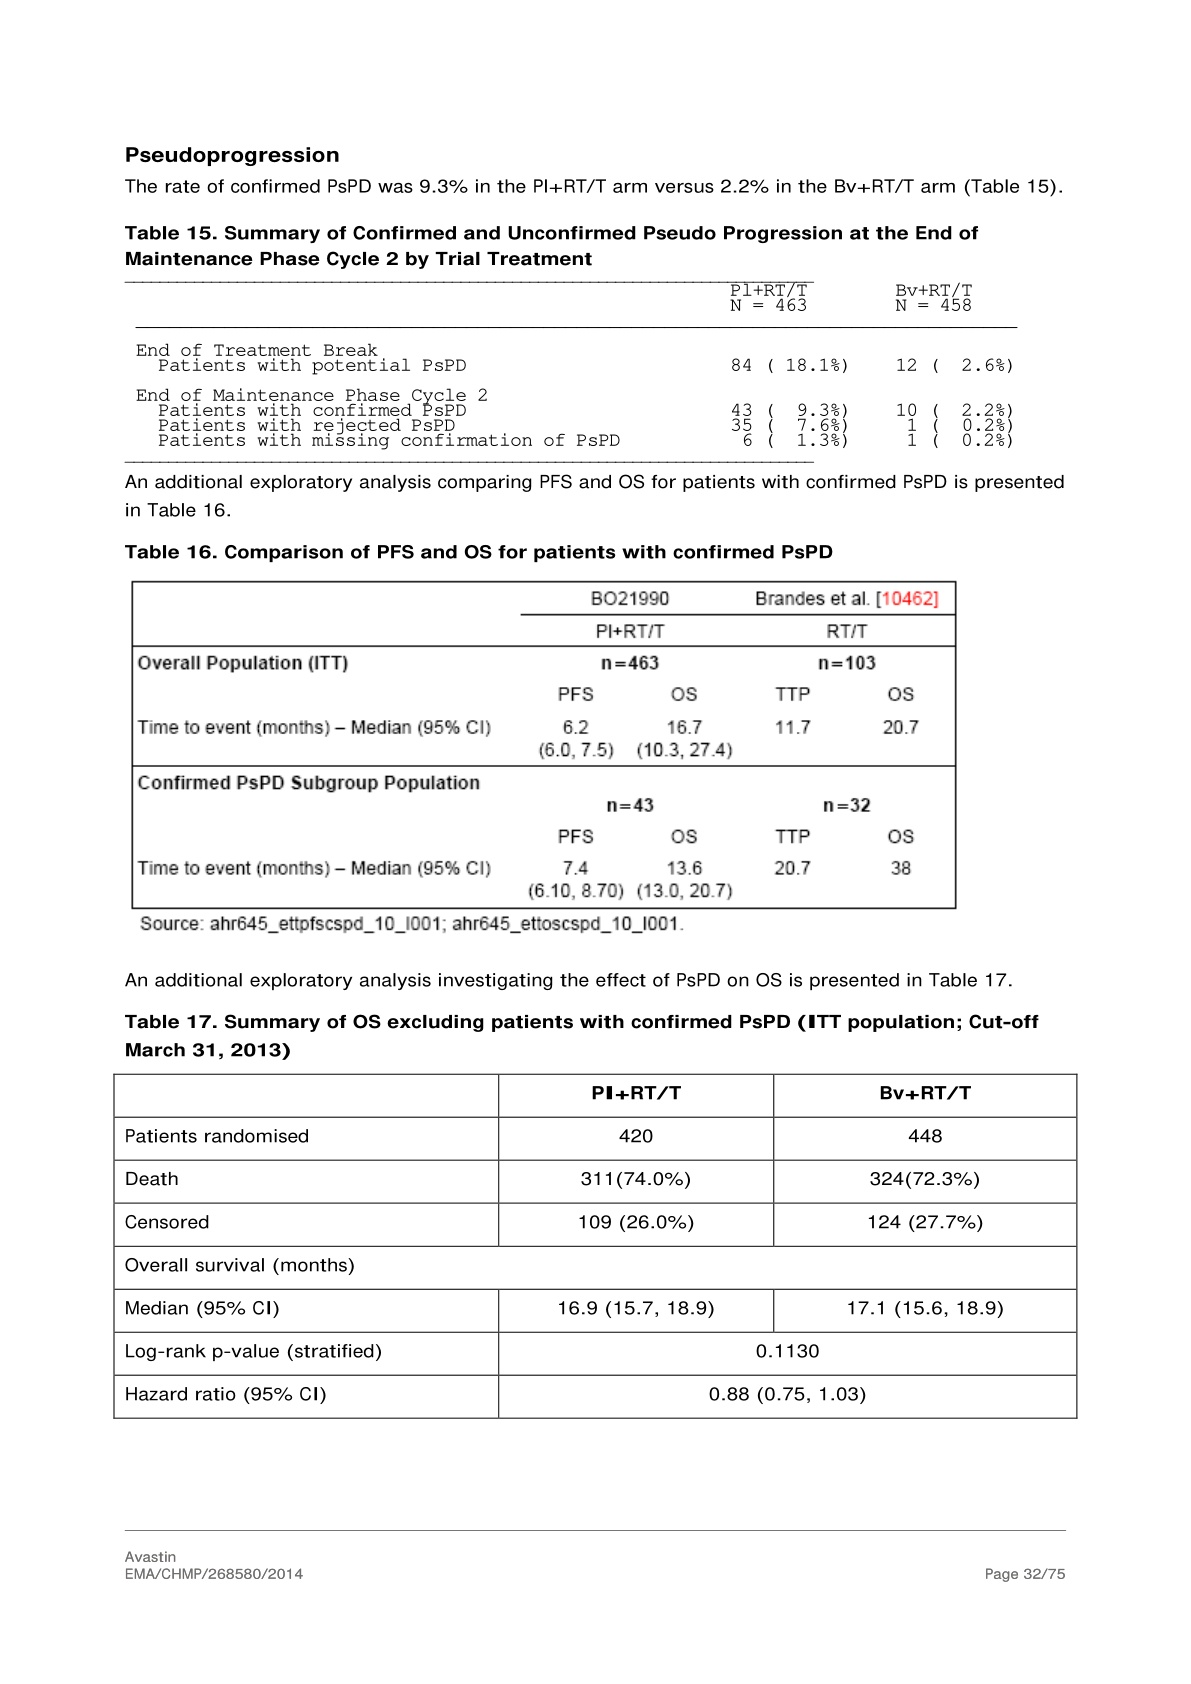merged_cells: (110, 1071, 1080, 1420)
partial_lined: (121, 280, 1023, 463)
partial_lined_merged_cells: (130, 580, 958, 910)
